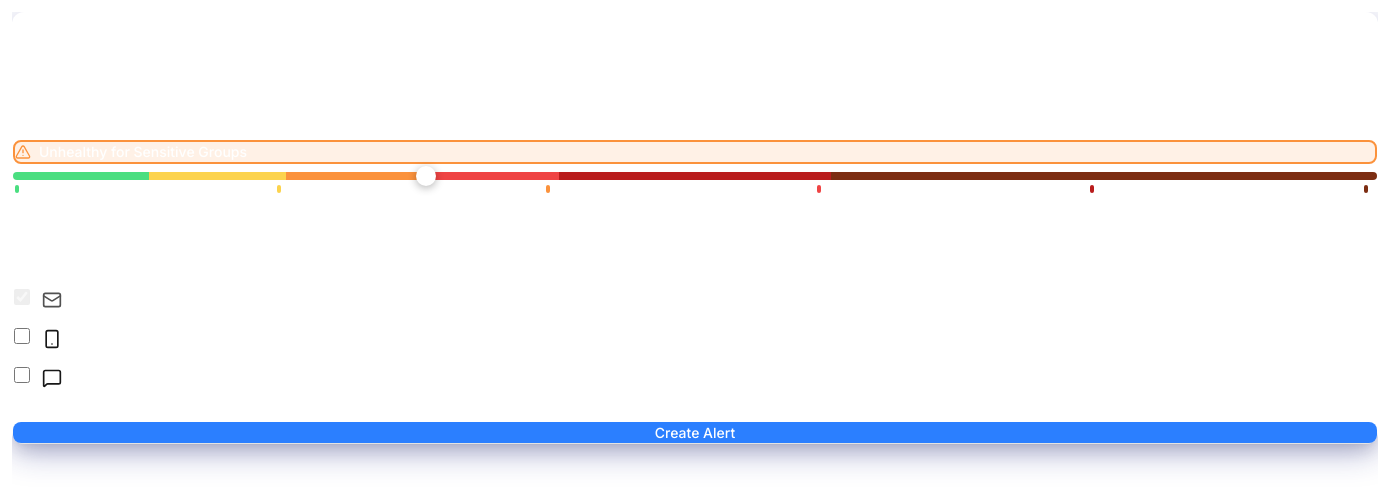
Test: AlertConfigurationCard › Visual Feedback › displays AQI category with appropriate styling
This screenshot has width=1390, height=487.
# Set to hazardous level
Set the slider named "AQI threshold slider" to "400" at (1099, 176), box [13,172,1377,180]
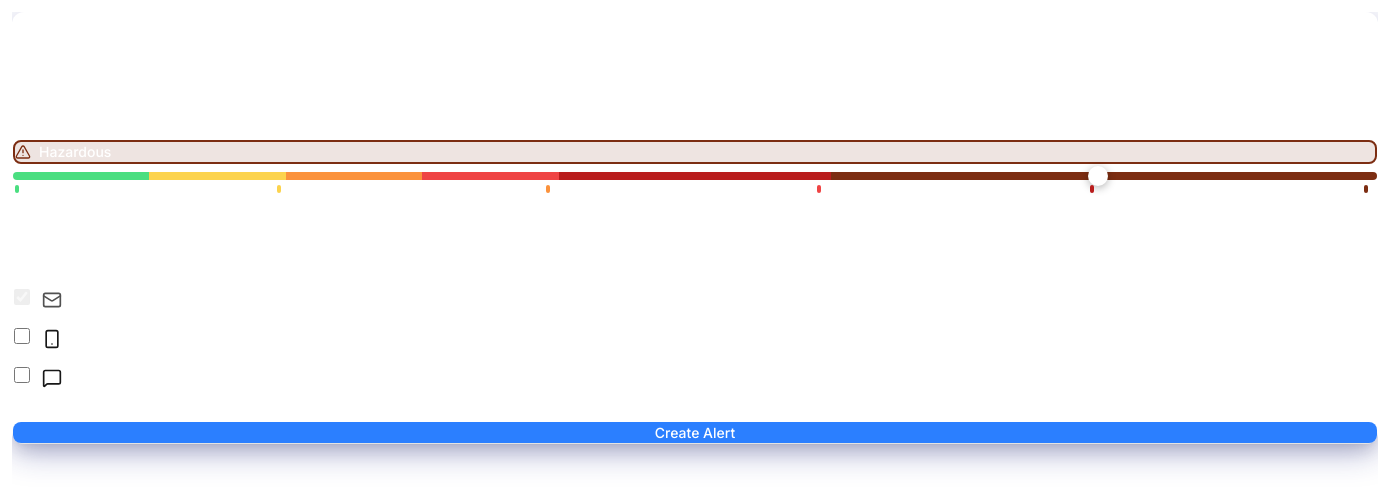
Expected: the text "Hazardous" is shown, [39,142,111,162]
